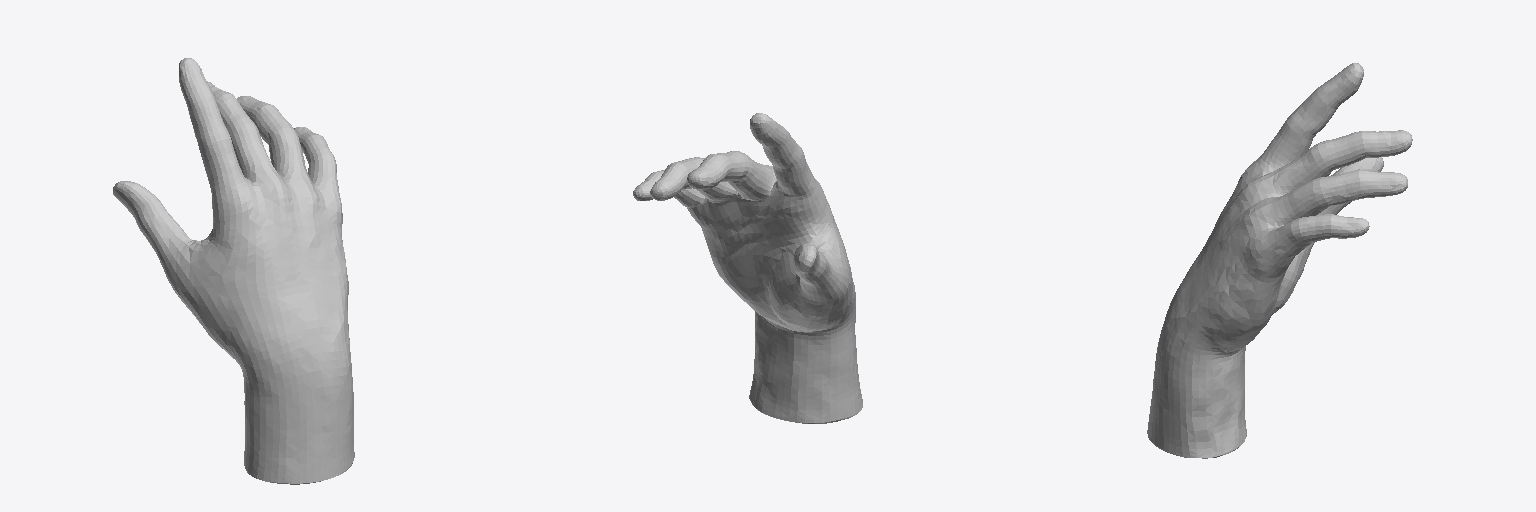
Rendered from hand.obj.
The picture shows the model from 3 angles: view 1: azimuth 30°, elevation 25°; view 2: azimuth 150°, elevation 25°; view 3: azimuth 270°, elevation 25°; orthographic projection.
Visible parts, largest first — view 1: hand_low; view 2: hand_low; view 3: hand_low.
Part boxes in pixels (left/top/right/bottom): hand_low: left=113, top=58, right=354, bottom=484; hand_low: left=633, top=113, right=862, bottom=423; hand_low: left=1147, top=63, right=1412, bottom=458.
Bounding box in the file's own units: 1 × 1.8 × 1.22.